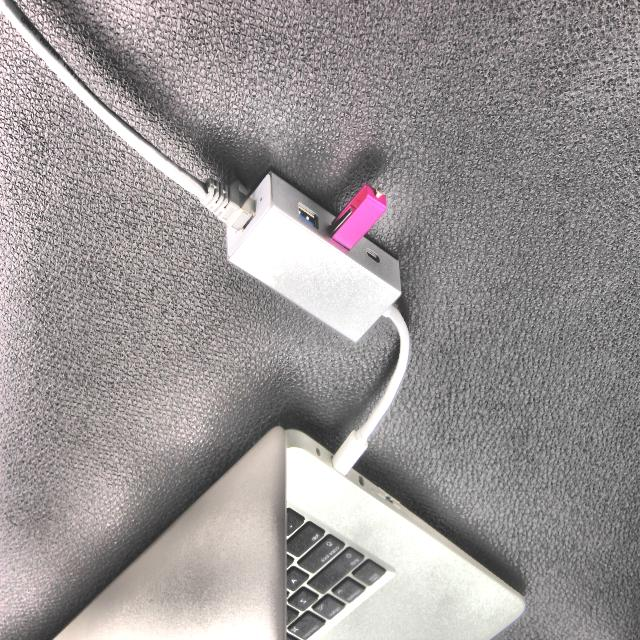HUB: (0, 0, 409, 475)
